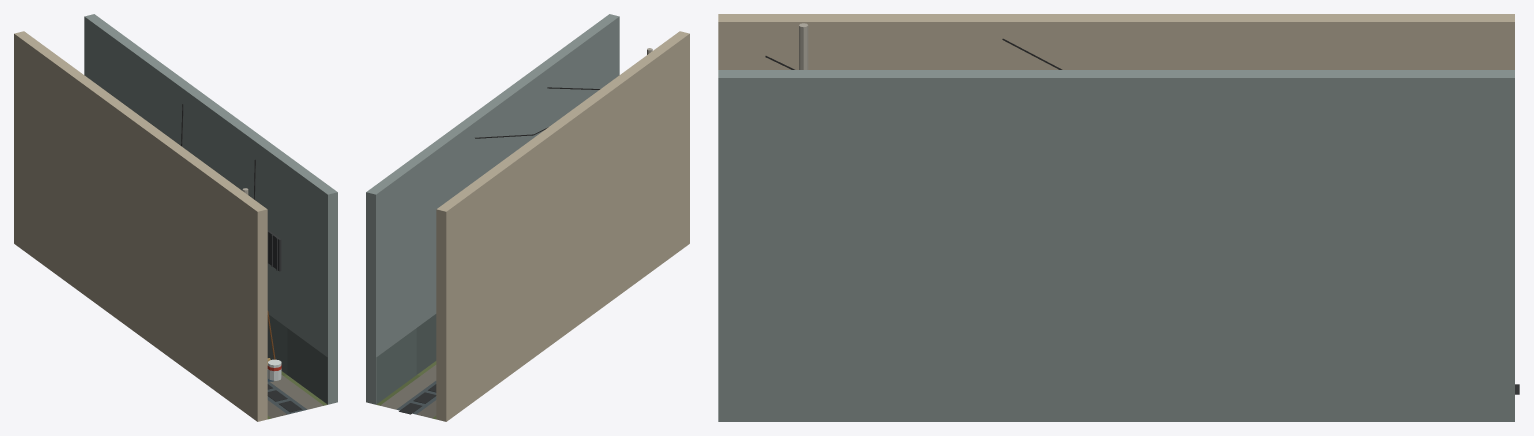
The model's file is khe_hong.glb.
3 renders of one model, left to right at view 1: azimuth 30°, elevation 25°; view 2: azimuth 150°, elevation 25°; view 3: azimuth 270°, elevation 25°, orthographic. The views are drawn at different scales.
Visible parts, largest first — view 1: tuong_nha_ben, tuong_tiem, nen_khe, thung_go_chon; view 2: tuong_nha_ben, tuong_tiem, nen_khe; view 3: tuong_tiem, tuong_nha_ben.
Part boxes in pixels (x1,y1,x2,y2): tuong_nha_ben: [14, 31, 267, 421]; tuong_tiem: [84, 14, 337, 404]; nen_khe: [267, 369, 327, 419]; thung_go_chon: [267, 311, 281, 380]; tuong_nha_ben: [436, 31, 689, 421]; tuong_tiem: [366, 14, 619, 404]; nen_khe: [376, 361, 436, 419]; tuong_tiem: [718, 38, 1514, 421]; tuong_nha_ben: [718, 14, 1514, 69].
Size of the model in its own units: 1.6 by 4.03 by 8.45.
